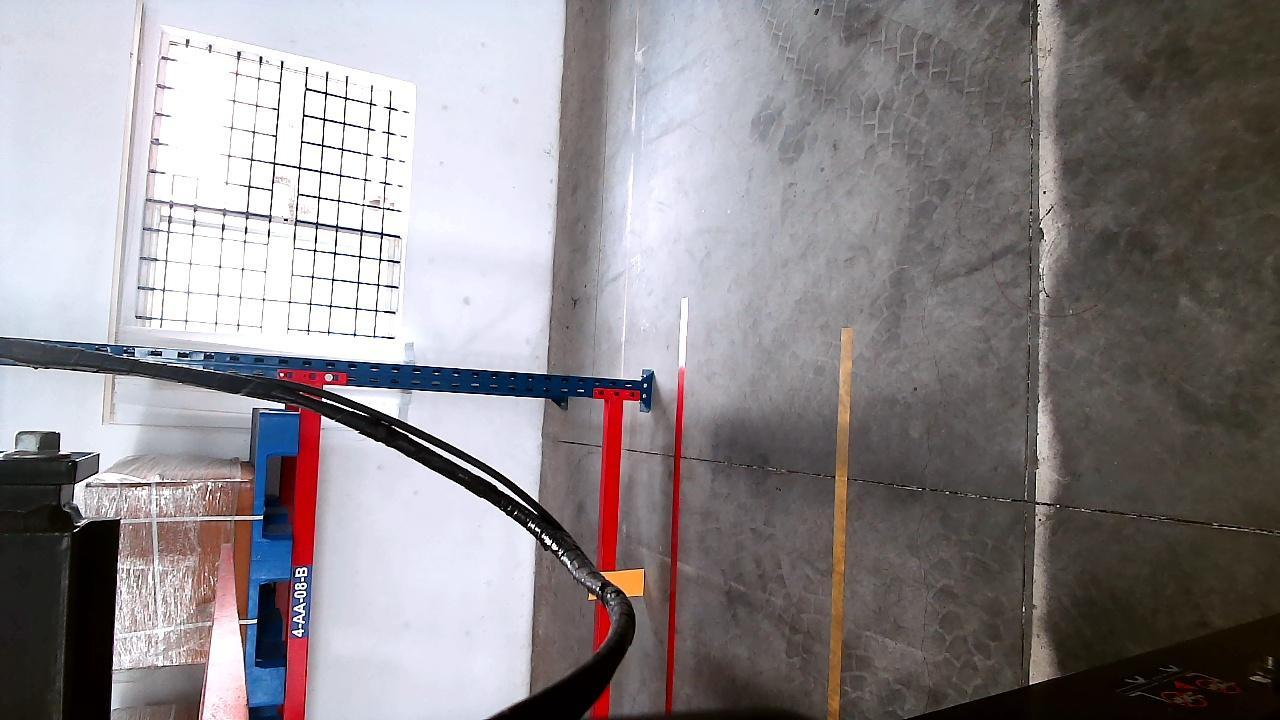red_line: (665, 296, 689, 714)
yellow_line: (825, 324, 851, 716)
